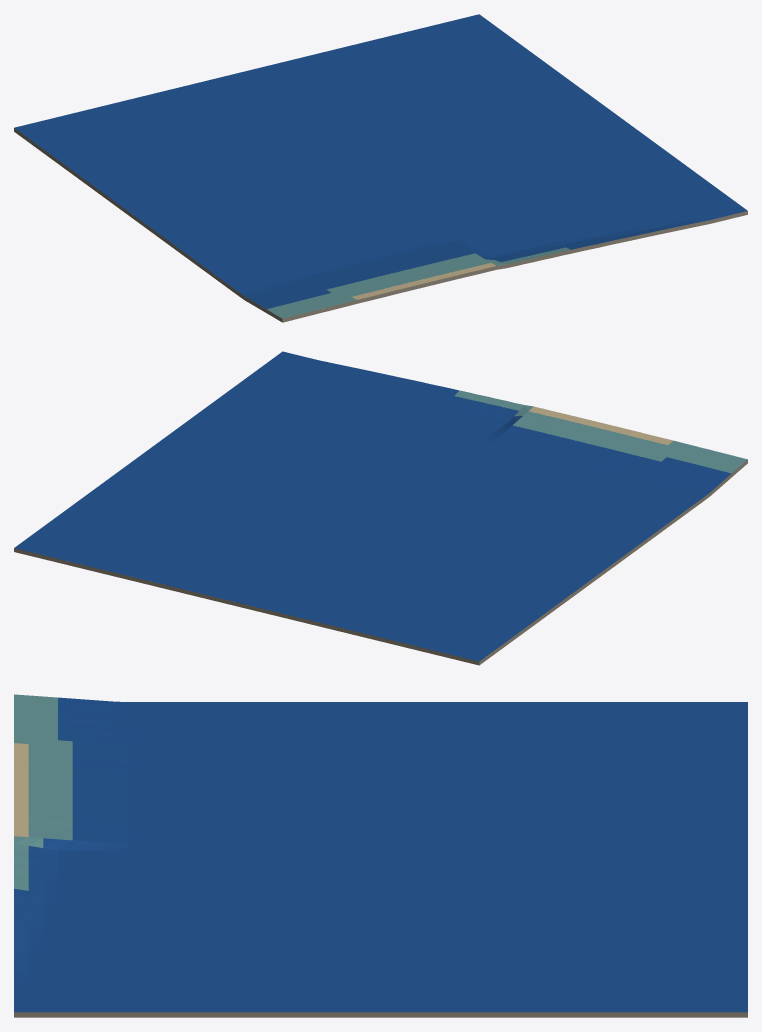
File: parca_+3_+3-uzak.glb
3 renders of one model, top to bottom at view 1: azimuth 30°, elevation 25°; view 2: azimuth 150°, elevation 25°; view 3: azimuth 270°, elevation 25°, orthographic. The views are drawn at different scales.
Parts seen in each view (by area): view 1: parca_+3_+3_arazi_uzak; view 2: parca_+3_+3_arazi_uzak; view 3: parca_+3_+3_arazi_uzak.
Part boxes in pixels (x1,y1,x2,y2): parca_+3_+3_arazi_uzak: (14, 14, 747, 322); parca_+3_+3_arazi_uzak: (14, 351, 747, 665); parca_+3_+3_arazi_uzak: (14, 694, 747, 1017).
Size of the model in its own units: 1000 by 21.18 by 1000.
